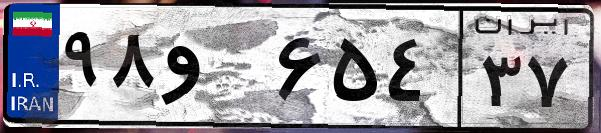3: (475, 38, 525, 113)
4: (385, 28, 445, 110)
5: (330, 28, 385, 110)
6: (270, 28, 330, 110)
7: (525, 38, 570, 115)
8: (110, 28, 158, 98)
9: (57, 26, 110, 100)
و: (158, 20, 270, 120)
